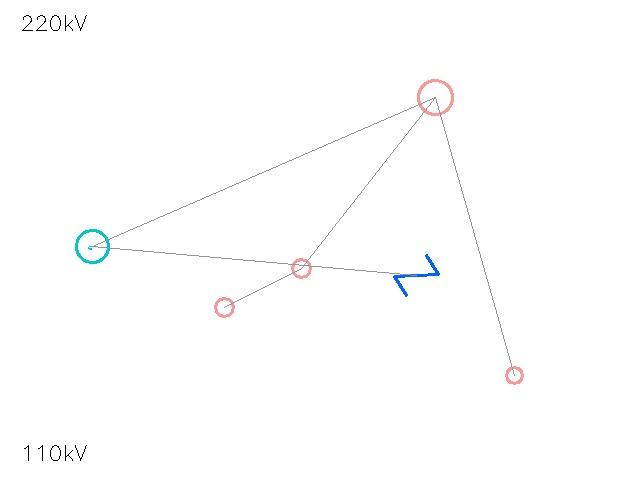circuit_breaker: (394, 253, 438, 297)
disconnect_switch: (401, 63, 469, 131), (282, 249, 320, 287)
generator: (76, 230, 108, 262)
reactor: (498, 359, 530, 391)
voltage_transformer: (205, 288, 243, 326)
